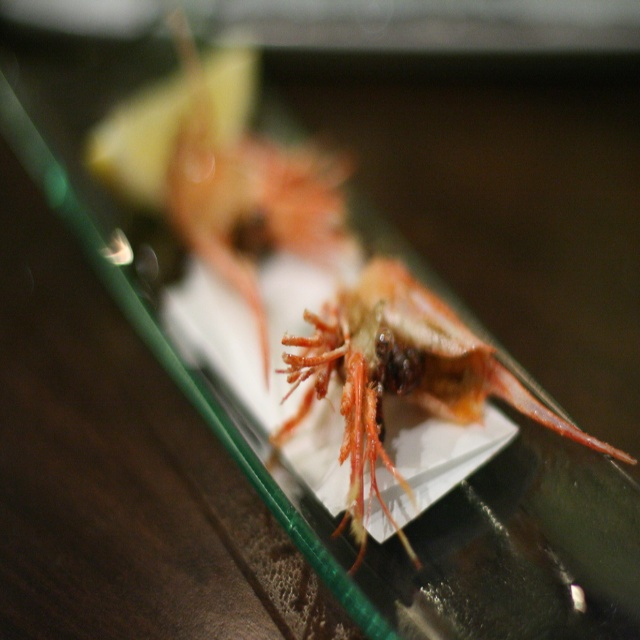Shrimp: (268, 262, 638, 580)
